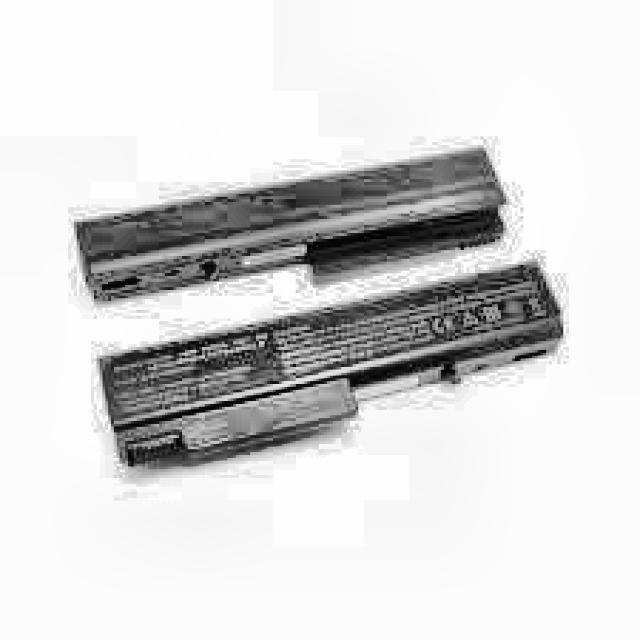Battery: (105, 282, 560, 466), (80, 151, 500, 290)
